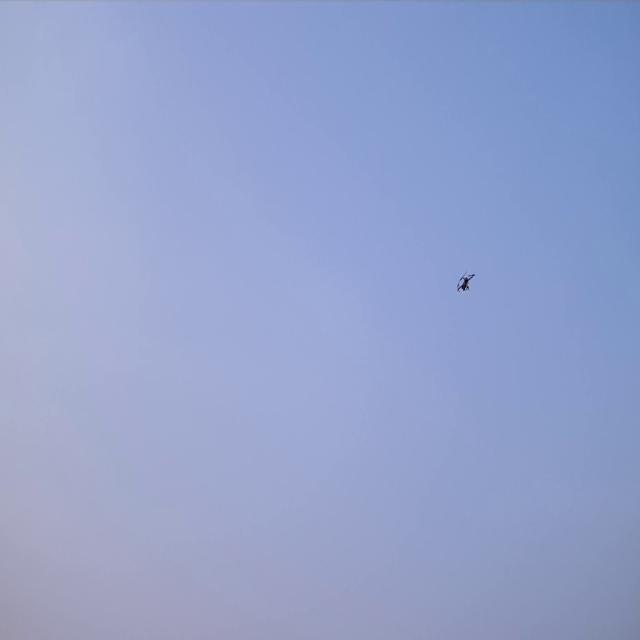UAV: (458, 274, 473, 291)
